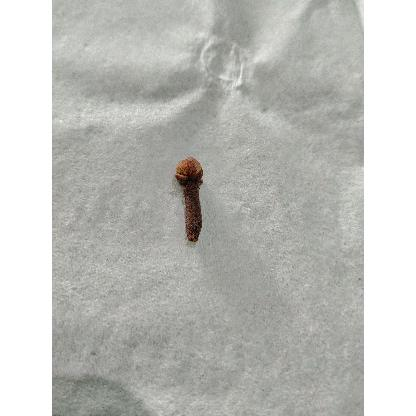baik: (175, 158, 203, 245)
